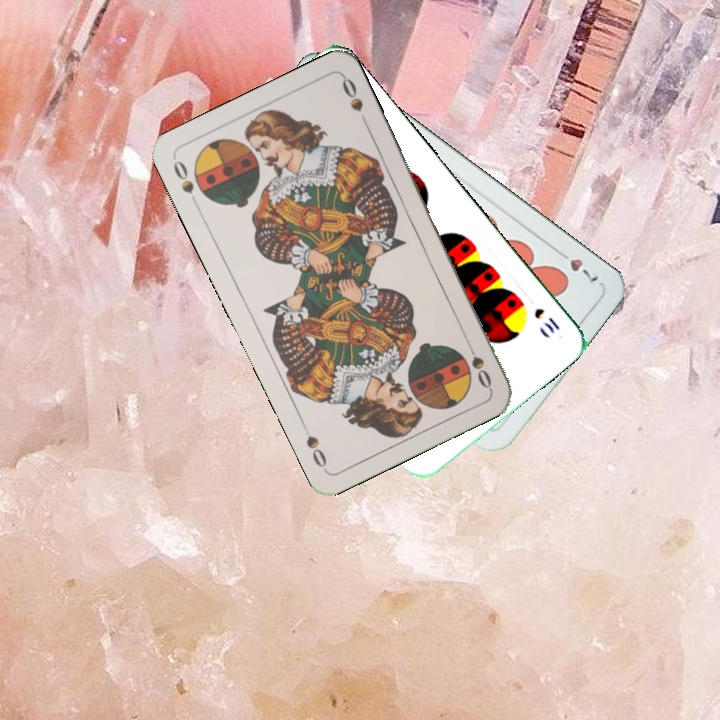H7: (552, 245, 601, 286)
S10: (530, 304, 563, 337)
SO: (462, 335, 494, 391), (169, 156, 202, 210)
